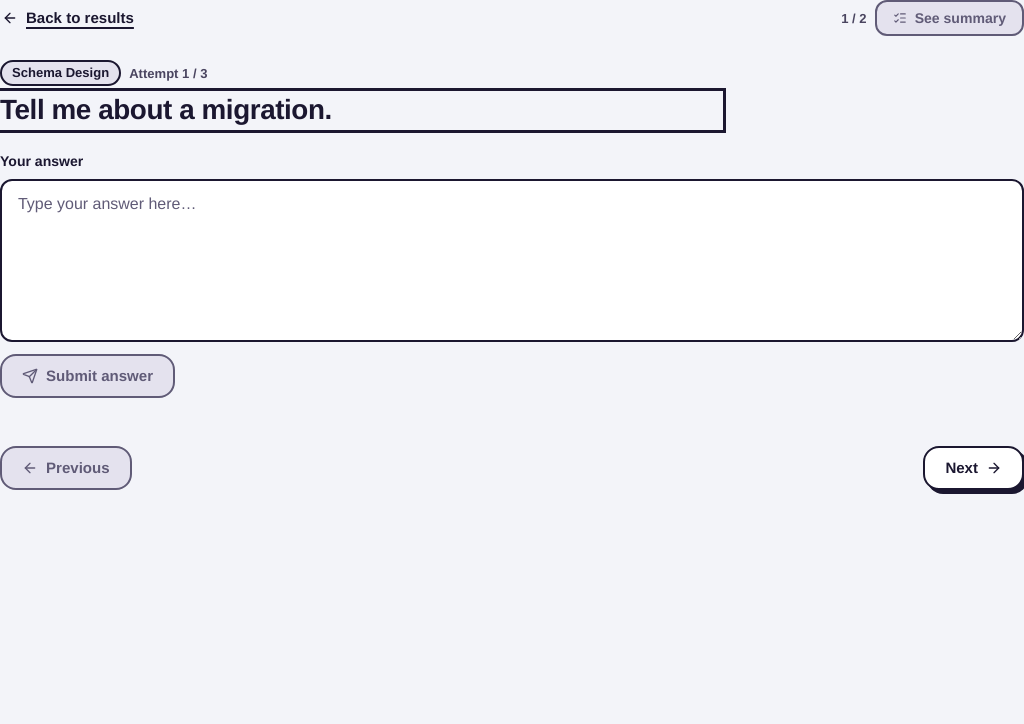
Scenario: InterviewPracticeMode › stacks every attempt, shows the third one is feedback too, then the model answer
Type "One." into the text box labelled "Your answer" at (512, 260), box [0,179,1023,342]
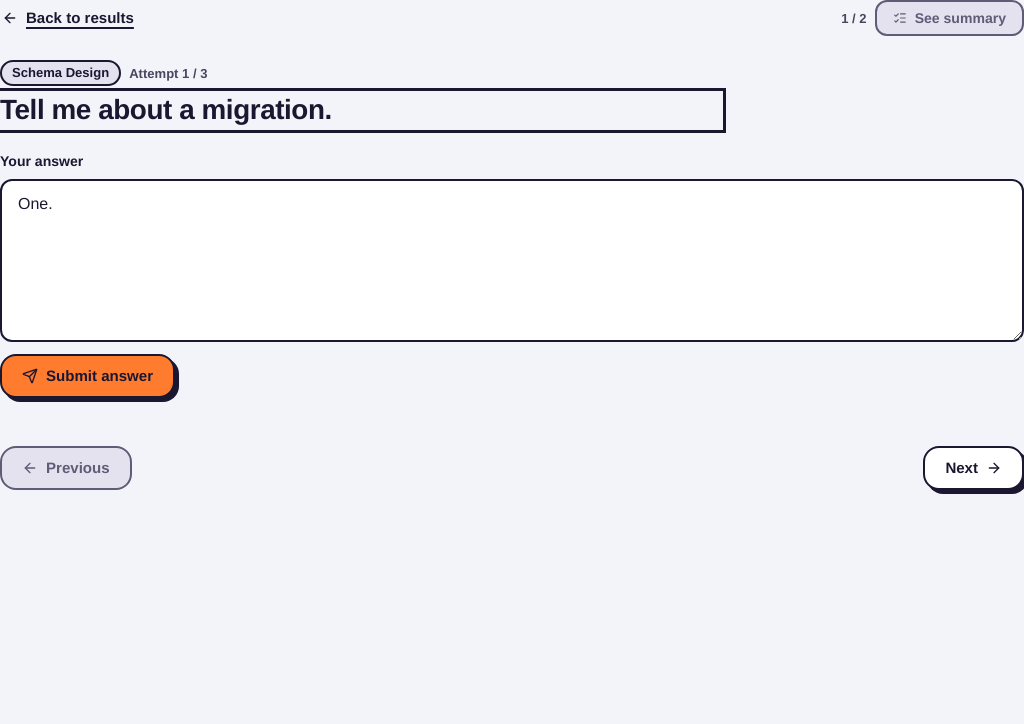
Click the button "Submit answer" at (88, 376), box [0,354,175,398]
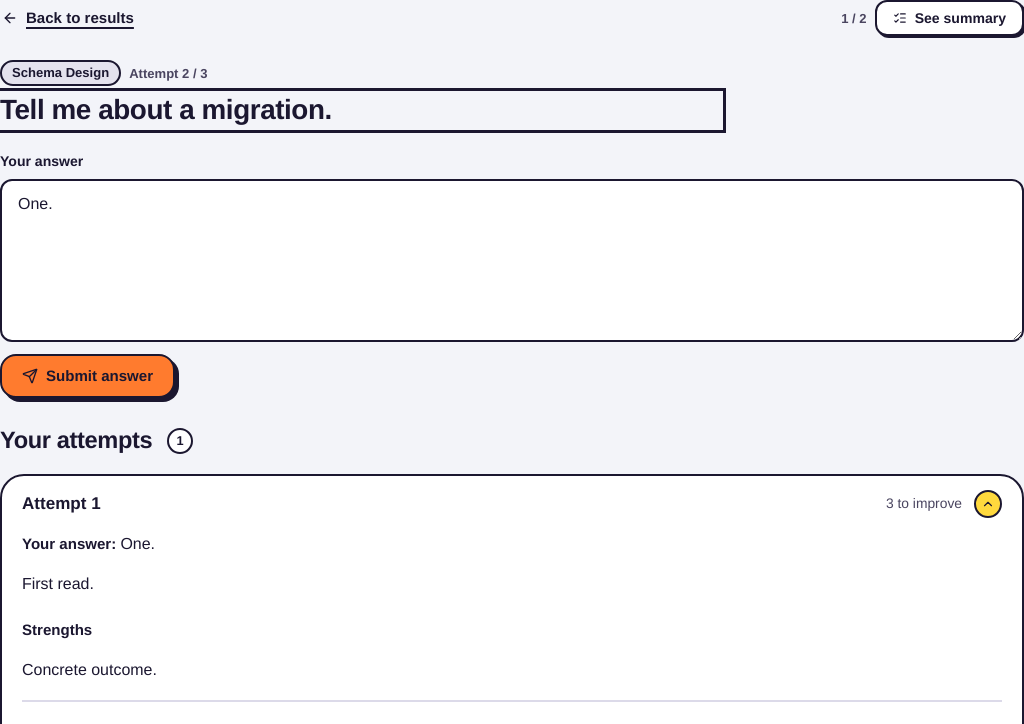
Expected: the text "First read." is shown, [22,574,94,594]
Replace the text in the text box labelled "Your answer" with "Two." at (512, 260), box [0,179,1023,342]
Click the button "Submit answer" at (88, 376), box [0,354,175,398]
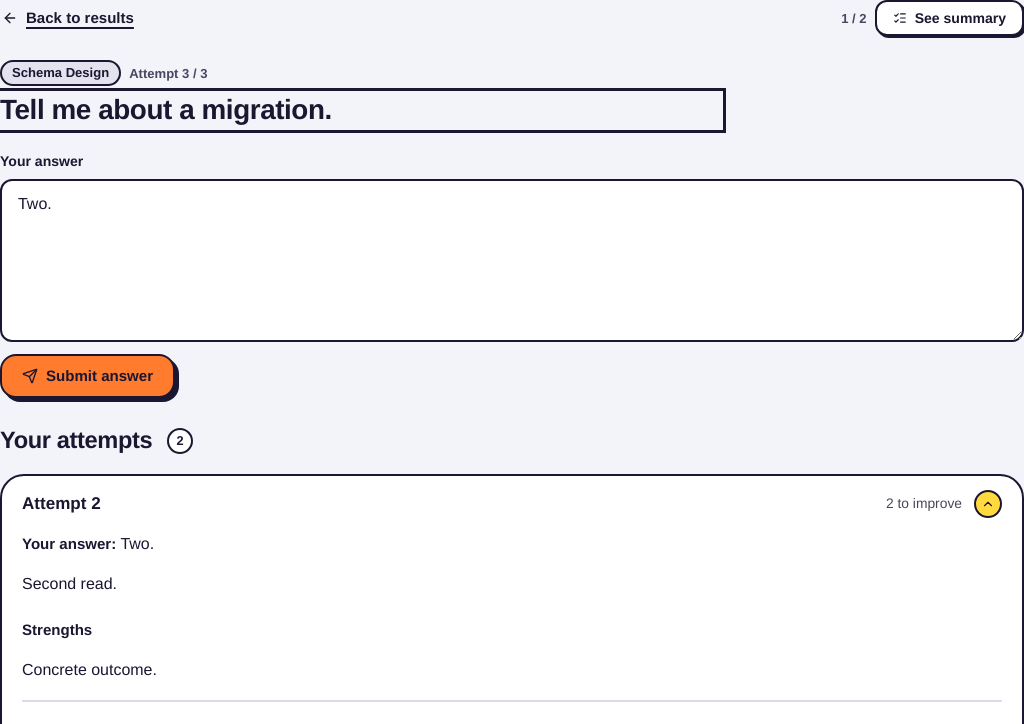
Expected: the text "Second read." is shown, [22,574,117,594]
Replace the text in the text box labelled "Your answer" with "Three." at (512, 260), box [0,179,1023,342]
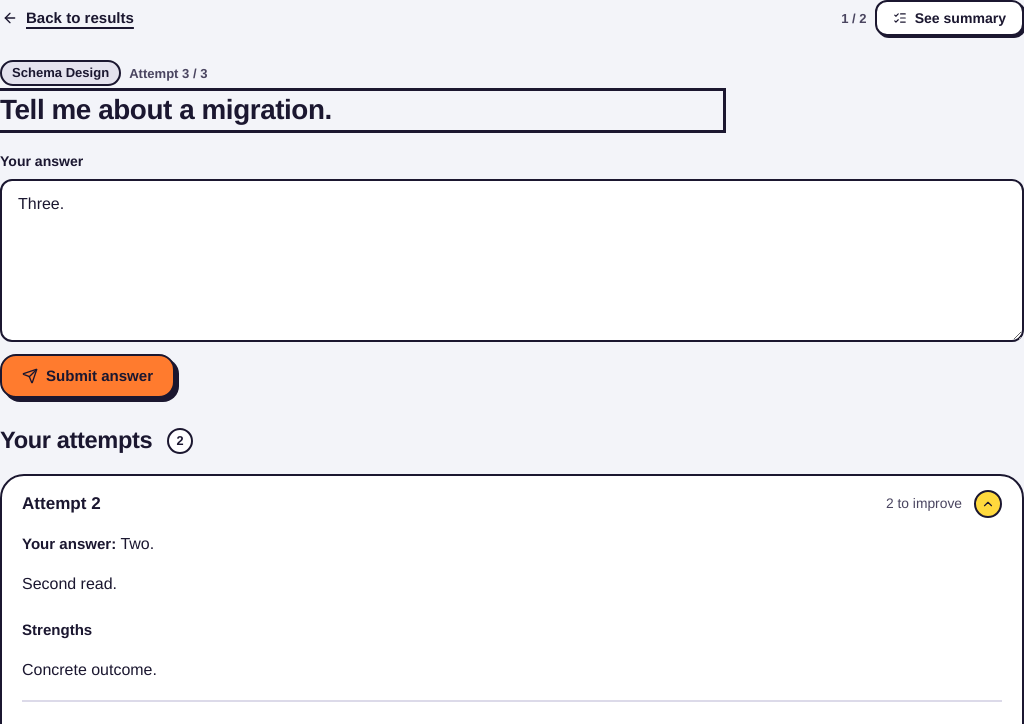
Click the button "Submit answer" at (88, 376), box [0,354,175,398]
(page scrolled)
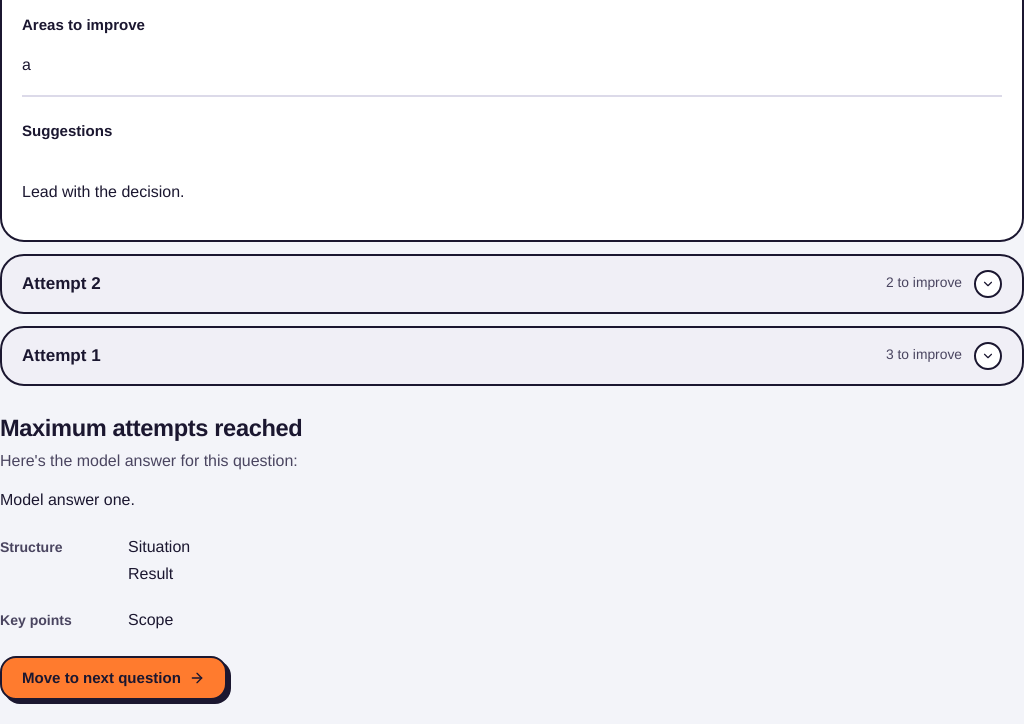
Expected: the button "Attempt 1 3 to improve" is shown, [2,328,1022,384]
Expected: the heading "Maximum attempts reached" is shown, [0,414,302,442]
Expected: the text "Model answer one." is shown, [0,490,135,510]
Click the button "Move to next question" at (113, 678), box [0,656,227,700]
(page scrolled)
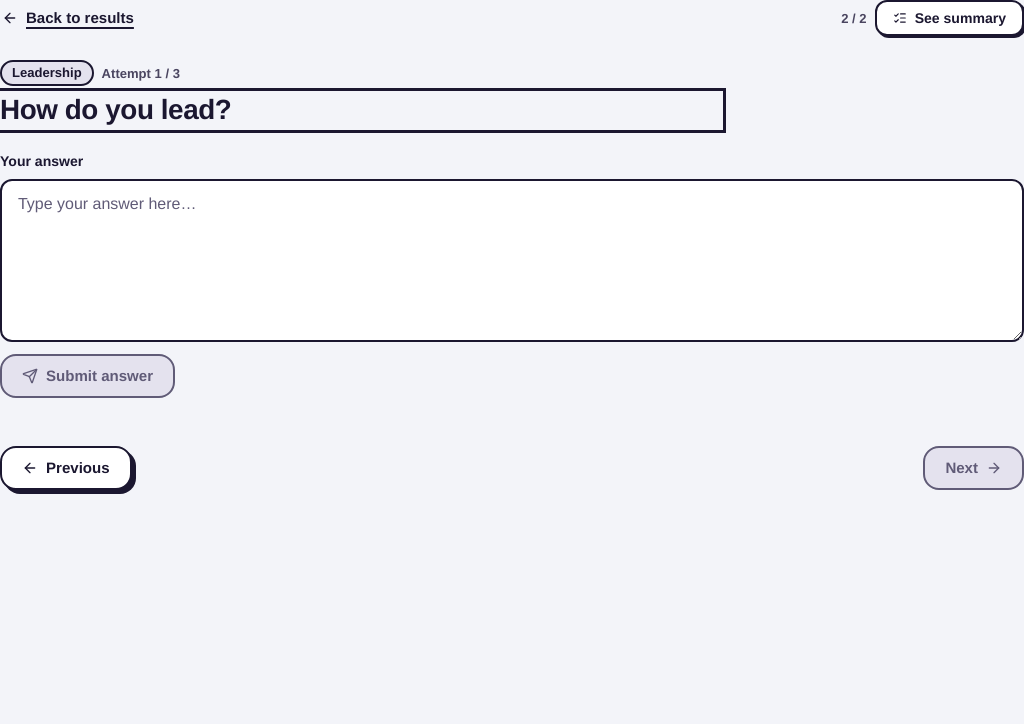
Expected: the text "How do you lead?" is shown, [0,93,231,127]
Expected: the text box labelled "Your answer" is shown, [0,179,1023,342]
